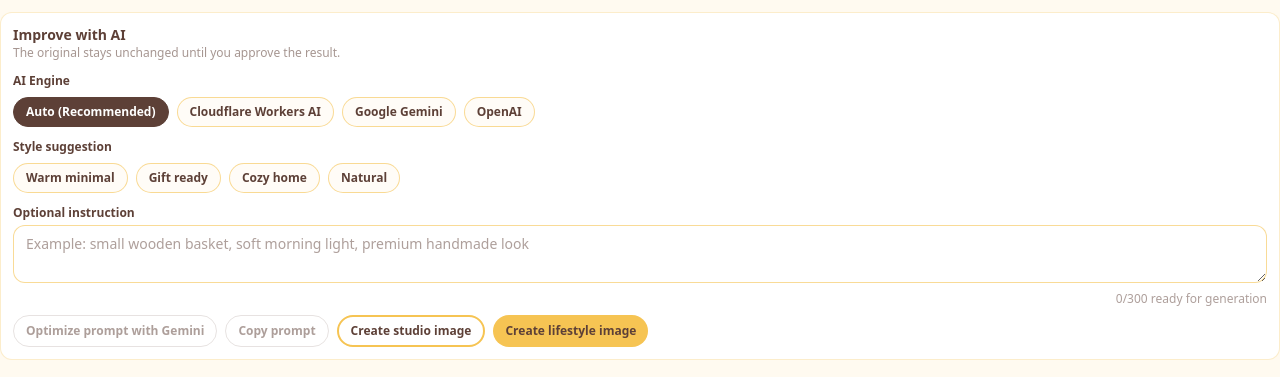
Test: image prompt copying › disables copying while Gemini optimizes the prompt
The width and height of the screenshot is (1280, 377).
Replace the text in the text box labelled "Optional instruction 0/300 ready for generation" with "morning light". click: (640, 254)
box: [13, 225, 1267, 283]
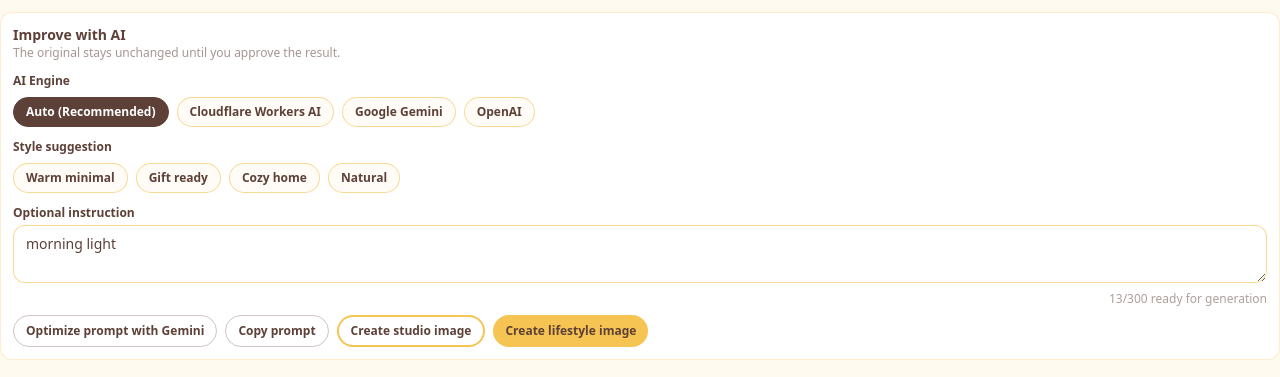
Click the button "Optimize prompt with Gemini". click: (115, 331)
box: [13, 315, 217, 347]
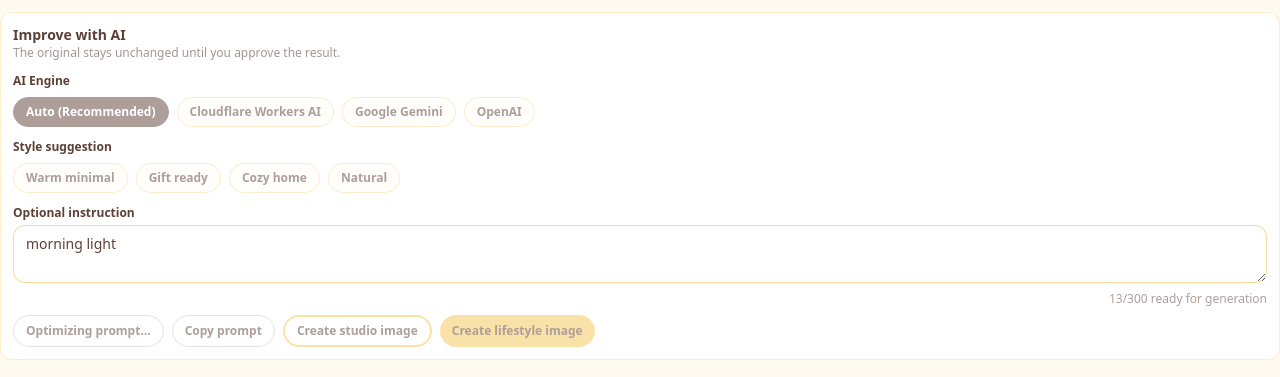
Result: the button "Copy prompt" is disabled at [172, 315, 275, 347]
